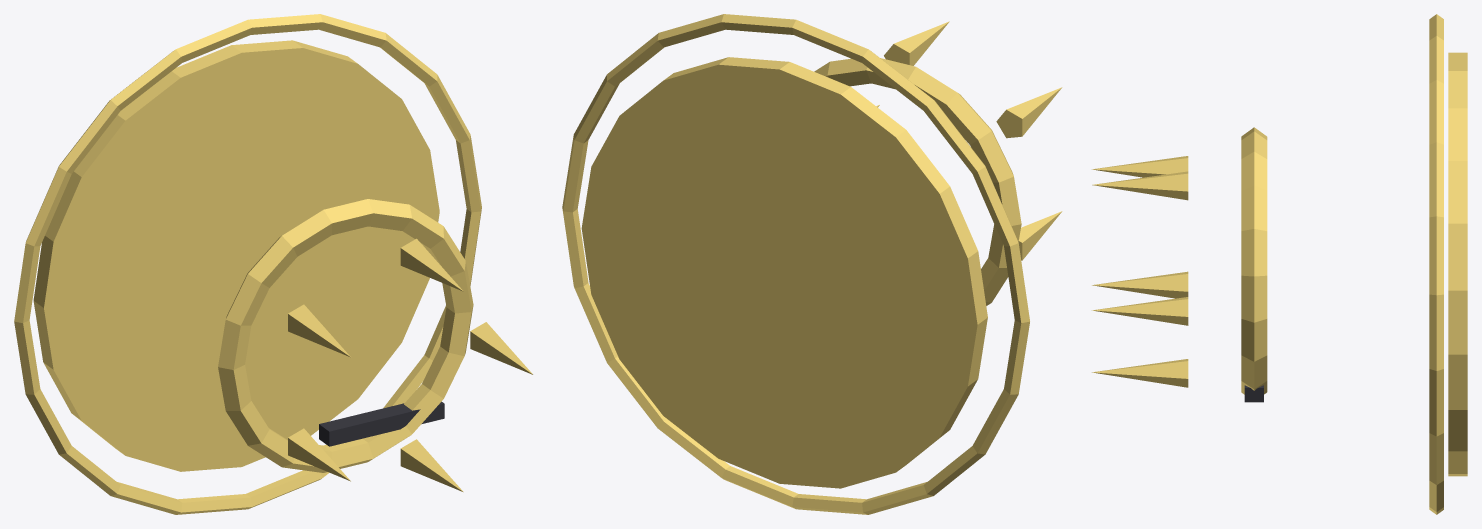
The model's file is 04_broken_crown_relic.glb.
3 renders of one model, left to right at view 1: azimuth 30°, elevation 25°; view 2: azimuth 150°, elevation 25°; view 3: azimuth 270°, elevation 25°, orthographic. The views are drawn at different scales.
Visible parts, largest first — view 1: base_disc, base_ring, crown_base, break, point_1, point_4, point_0, point_3, point_2; view 2: base_disc, base_ring, crown_base, point_2, point_1, point_3; view 3: base_disc, base_ring, crown_base, point_1, point_4, point_0, point_3, point_2.
Boxes of the visible parts, x1,y1,x2,y2 form: base_disc: (33,40,439,471); base_ring: (14,14,481,514); crown_base: (218,199,473,472); break: (319,401,444,446); point_1: (400,238,463,291); point_4: (400,439,463,491); point_0: (470,322,532,374); point_3: (288,428,350,481); point_2: (288,304,350,357); base_disc: (581,57,987,488); base_ring: (562,14,1029,514); crown_base: (814,58,1021,305); point_2: (996,87,1062,138); point_1: (884,21,949,65); point_3: (1018,211,1062,260); base_disc: (1448,52,1467,476); base_ring: (1429,14,1443,514); crown_base: (1241,127,1267,394); point_1: (1092,171,1188,200); point_4: (1092,359,1188,387); point_0: (1092,297,1188,325); point_3: (1092,271,1188,298); point_2: (1092,156,1188,177).
Bounding box in the file's own units: 1.3 × 1.3 × 0.97.
